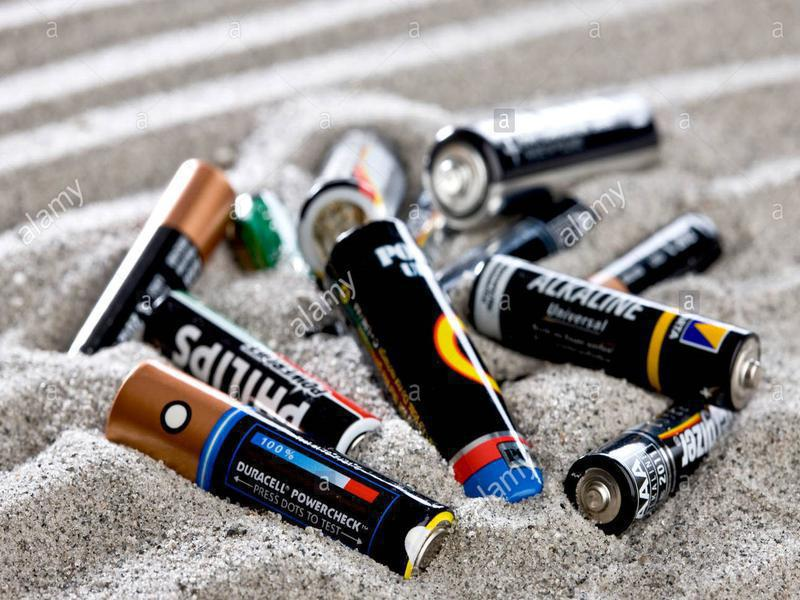battery: (99, 356, 465, 580), (318, 216, 554, 511), (468, 248, 769, 408), (58, 153, 240, 360), (560, 396, 748, 542)
